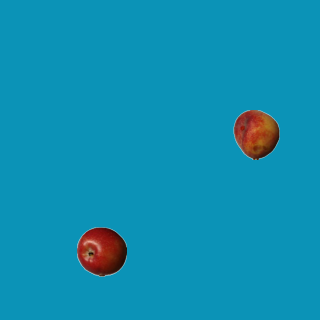Apple Braeburn: (76, 226, 126, 276)
Peach: (231, 109, 281, 159)
